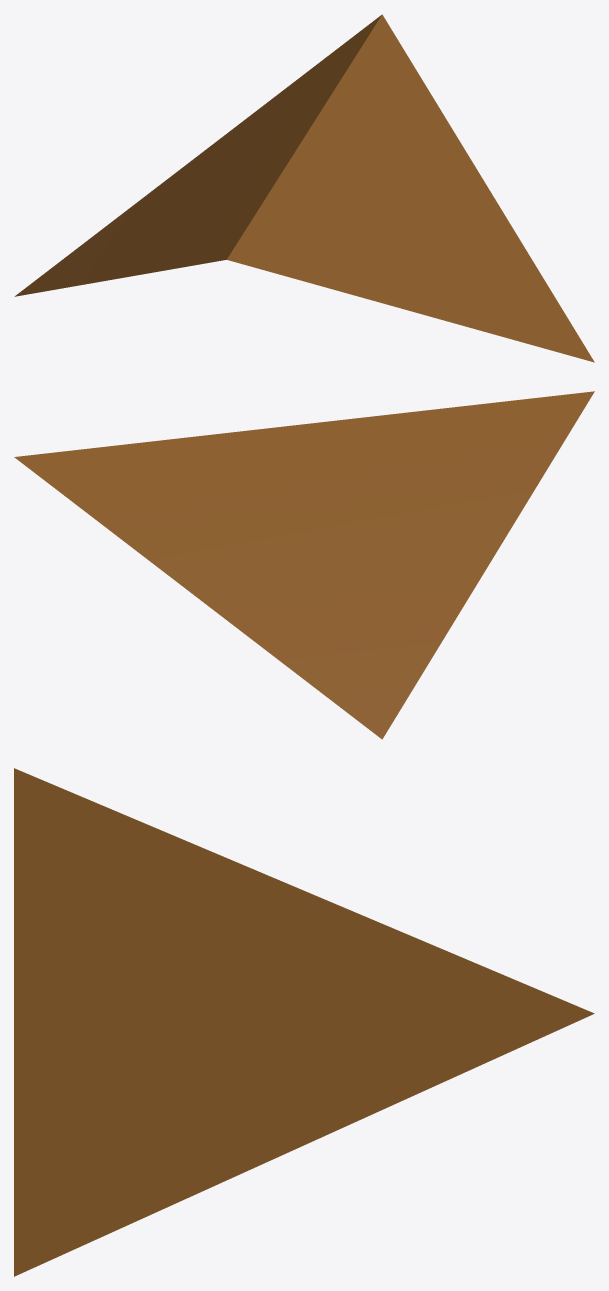
File: slope.outward.gltf
The picture shows the model from 3 angles, top to bottom: view 1: azimuth 30°, elevation 25°; view 2: azimuth 150°, elevation 25°; view 3: azimuth 270°, elevation 25°; orthographic projection. The views are drawn at different scales.
Visible parts, largest first — view 1: slope.outward; view 2: slope.outward; view 3: slope.outward.
Boxes of the visible parts, x1,y1,x2,y2 form: slope.outward: [14, 14, 594, 362]; slope.outward: [14, 391, 594, 739]; slope.outward: [14, 768, 594, 1276].
Bounding box in the file's own units: 4 × 2 × 4.
